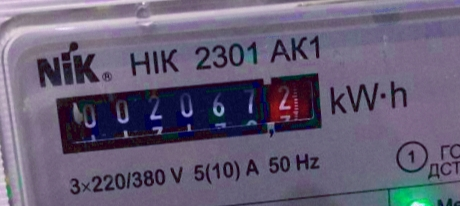0: (77, 101, 98, 131), (111, 95, 131, 126), (174, 89, 194, 119)
2: (272, 82, 293, 113), (144, 92, 164, 123)
6: (207, 89, 228, 119)
7: (240, 85, 258, 117)
screen: (40, 58, 338, 169)
